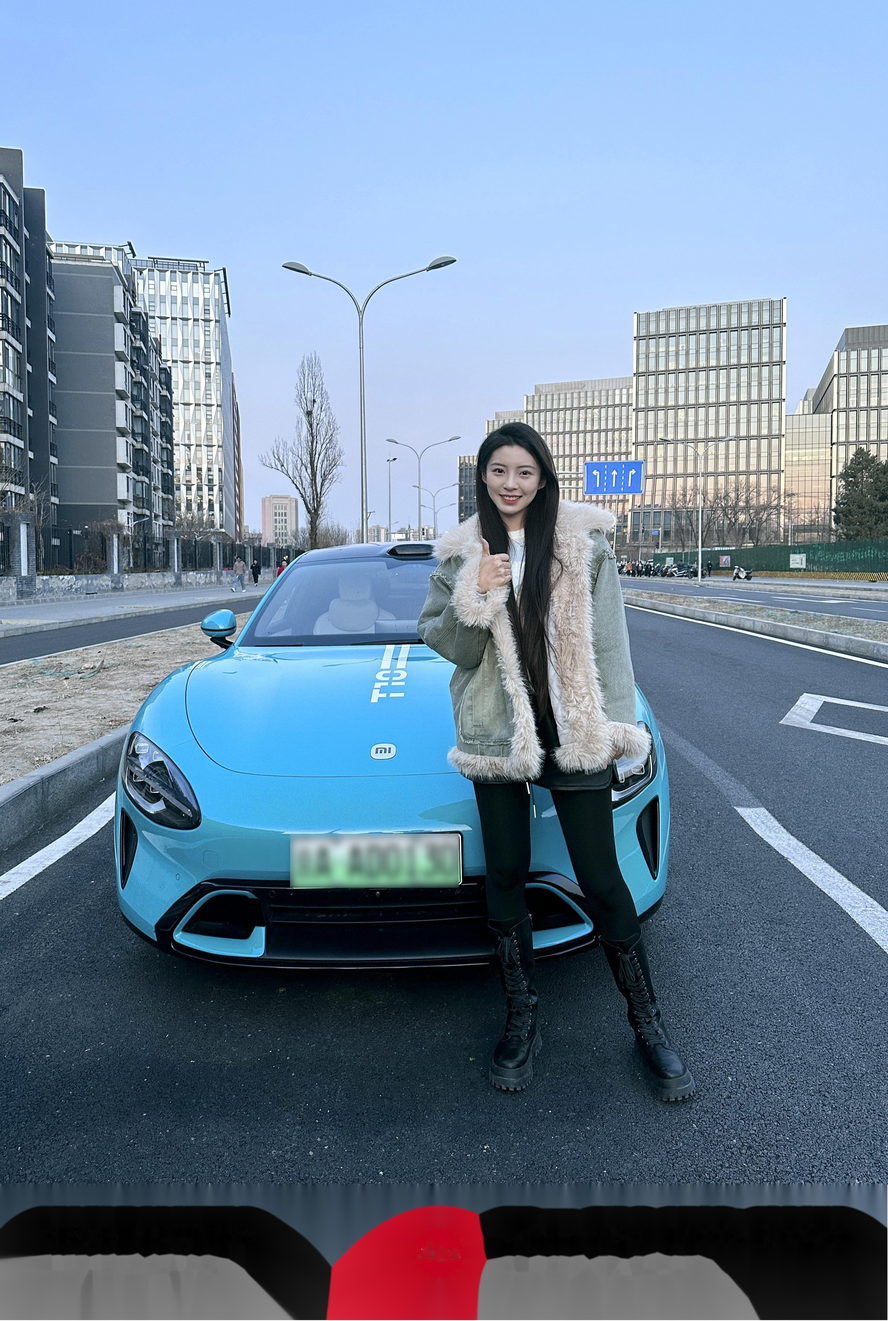su7: (136, 537, 683, 973)
